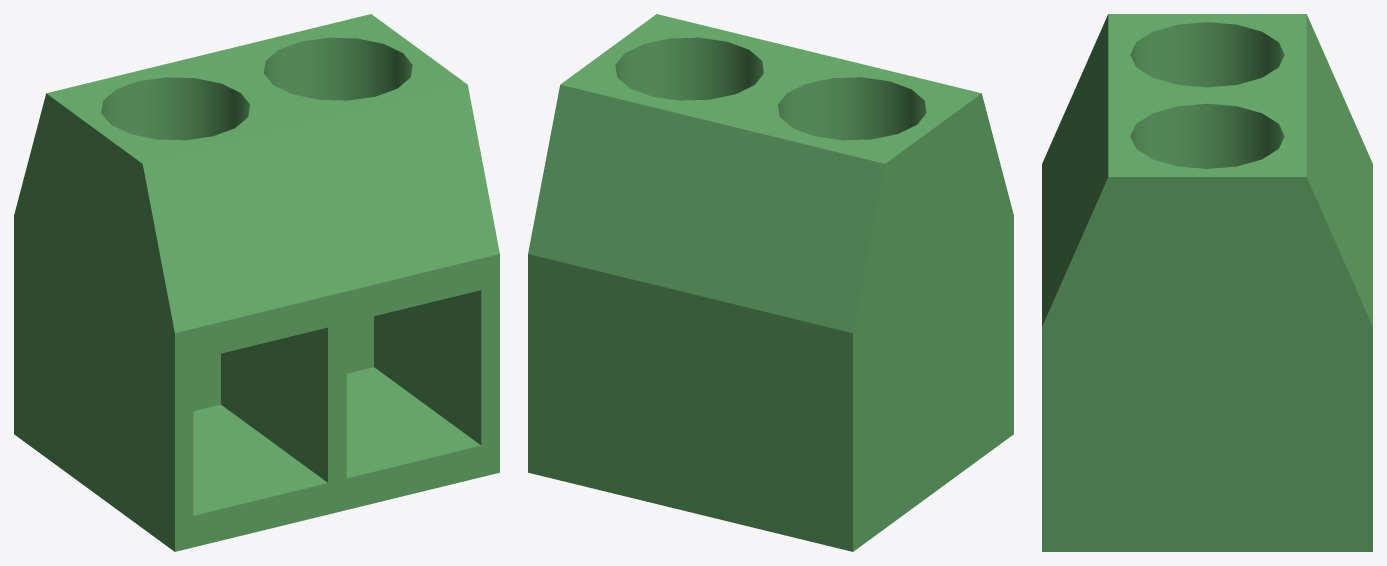
The model's file is PCA9685_v18_117.gltf.
3 views of the same model, side by side, from view 1: azimuth 30°, elevation 25°; view 2: azimuth 150°, elevation 25°; view 3: azimuth 270°, elevation 25° (orthographic). The views are drawn at different scales.
Visible parts, largest first — view 1: mesh5641, mesh5639, mesh5644, mesh5635, mesh5645, mesh5654, mesh5647, mesh5650, mesh5642, mesh5634, mesh5646, mesh5651; view 2: mesh5637, mesh5636, mesh5639, mesh5635, mesh5642, mesh5634; view 3: mesh5638, mesh5635, mesh5636, mesh5641, mesh5634, mesh5642.
Part boxes in pixels (left/top/right/bottom): mesh5641: left=142, top=84, right=499, bottom=332; mesh5639: left=14, top=93, right=174, bottom=551; mesh5644: left=175, top=254, right=499, bottom=551; mesh5635: left=46, top=14, right=467, bottom=163; mesh5645: left=374, top=290, right=481, bottom=444; mesh5654: left=221, top=327, right=327, bottom=482; mesh5647: left=346, top=367, right=480, bottom=478; mesh5650: left=193, top=404, right=327, bottom=515; mesh5642: left=101, top=77, right=249, bottom=140; mesh5634: left=264, top=37, right=412, bottom=100; mesh5646: left=346, top=316, right=373, bottom=373; mesh5651: left=193, top=353, right=220, bottom=410; mesh5637: left=528, top=254, right=852, bottom=551; mesh5636: left=528, top=84, right=885, bottom=332; mesh5639: left=853, top=93, right=1013, bottom=551; mesh5635: left=560, top=14, right=981, bottom=163; mesh5642: left=778, top=77, right=926, bottom=140; mesh5634: left=615, top=37, right=763, bottom=100; mesh5638: left=1042, top=177, right=1372, bottom=551; mesh5635: left=1108, top=14, right=1306, bottom=176; mesh5636: left=1306, top=14, right=1372, bottom=326; mesh5641: left=1042, top=14, right=1108, bottom=326; mesh5634: left=1130, top=103, right=1284, bottom=168; mesh5642: left=1130, top=22, right=1284, bottom=87.
Bounding box in the file's own units: 0.007 × 0.0075 × 0.006.
